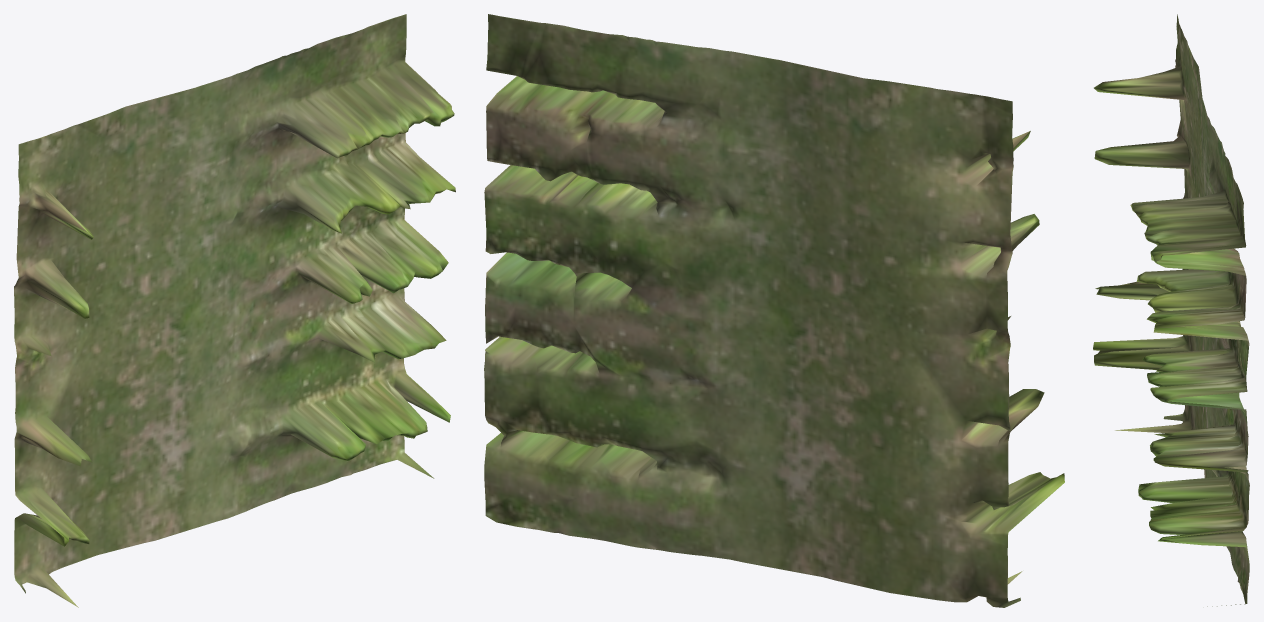
File: map_110_10.obj
3 views of the same model, side by side, from view 1: azimuth 30°, elevation 25°; view 2: azimuth 150°, elevation 25°; view 3: azimuth 270°, elevation 25° (orthographic). The views are drawn at different scales.
Parts seen in each view (by area): view 1: map_110_10.obj; view 2: map_110_10.obj; view 3: map_110_10.obj.
Part boxes in pixels (x1,y1,x2,y2): map_110_10.obj: (14, 14, 455, 607); map_110_10.obj: (484, 14, 1064, 607); map_110_10.obj: (1093, 14, 1249, 606).
Size of the model in its own units: 10 by 10 by 3.51.
Materials: 1 (1 with a texture image).
